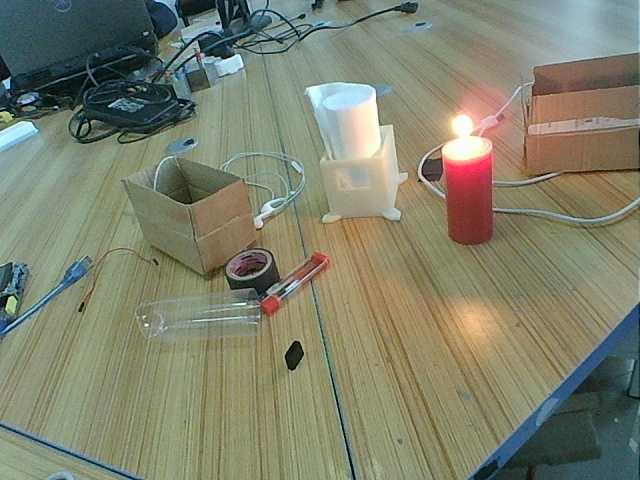candle: (438, 151, 498, 252)
fire: (445, 102, 492, 157)
